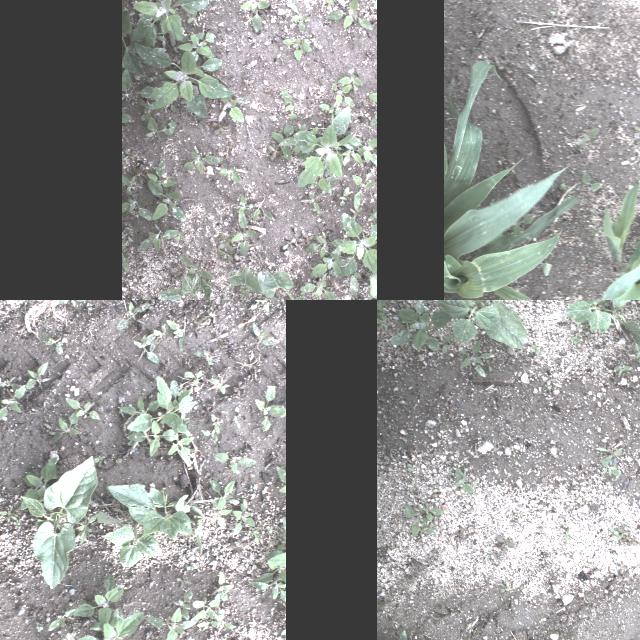crop: (443, 59, 580, 300), (20, 456, 99, 588), (588, 106, 640, 300), (108, 484, 194, 542), (431, 300, 527, 349), (96, 512, 162, 568), (565, 300, 634, 333), (215, 265, 269, 300), (174, 494, 203, 556), (259, 271, 317, 300), (159, 274, 214, 300), (377, 300, 406, 329)
weed: (136, 40, 232, 119), (282, 108, 362, 194), (126, 376, 198, 432), (132, 0, 212, 45), (390, 302, 452, 351), (73, 574, 124, 632), (65, 607, 146, 640), (341, 213, 377, 276), (19, 456, 57, 510), (125, 420, 178, 458), (146, 607, 196, 640), (146, 180, 184, 222), (121, 4, 142, 76), (324, 0, 373, 29), (254, 386, 286, 430), (402, 504, 443, 538), (458, 340, 494, 378), (232, 210, 258, 256), (176, 31, 214, 60), (0, 384, 28, 422), (239, 0, 271, 33), (180, 150, 223, 174), (210, 453, 256, 475), (49, 412, 80, 444), (210, 478, 240, 510), (114, 302, 148, 330), (118, 395, 164, 415), (351, 172, 375, 210), (337, 256, 361, 294), (233, 496, 255, 536), (167, 432, 196, 462), (138, 229, 174, 253), (250, 578, 286, 602), (74, 512, 100, 544), (179, 256, 213, 280), (147, 162, 176, 190), (313, 248, 342, 276), (272, 126, 294, 162), (190, 594, 220, 620), (134, 332, 158, 364), (251, 190, 273, 224), (252, 561, 286, 583), (280, 87, 300, 123), (282, 38, 312, 62), (305, 236, 341, 256), (150, 316, 170, 352), (64, 398, 100, 418), (338, 68, 364, 94), (42, 330, 68, 356), (122, 198, 150, 222), (48, 608, 76, 632), (170, 380, 192, 410), (171, 590, 193, 620), (166, 321, 187, 352), (300, 281, 333, 300), (221, 96, 247, 120), (355, 137, 377, 165), (252, 323, 280, 345), (26, 362, 48, 390), (290, 2, 310, 32), (212, 498, 232, 528), (332, 82, 356, 106), (146, 120, 174, 140), (367, 71, 377, 126), (188, 349, 220, 366), (216, 572, 234, 602), (122, 224, 132, 274), (578, 127, 600, 149), (215, 168, 242, 185), (256, 528, 284, 544), (595, 447, 623, 463), (214, 614, 236, 634), (455, 469, 473, 493), (342, 149, 362, 169), (581, 172, 601, 192), (494, 534, 514, 554), (264, 550, 286, 568), (198, 56, 222, 72), (304, 191, 320, 215), (197, 302, 215, 322), (435, 334, 453, 354), (226, 542, 248, 558), (601, 460, 621, 476), (0, 505, 18, 522), (208, 378, 226, 394), (184, 370, 202, 386), (196, 620, 220, 632), (122, 174, 136, 194), (278, 517, 286, 551), (138, 100, 150, 122), (122, 76, 134, 98), (208, 413, 220, 435), (616, 361, 632, 377), (235, 199, 253, 213), (218, 233, 232, 250), (0, 378, 21, 389), (122, 149, 136, 165), (240, 315, 256, 329), (176, 574, 192, 588), (340, 188, 352, 206), (131, 167, 143, 185), (254, 300, 272, 312), (200, 429, 218, 441), (209, 123, 229, 133), (121, 106, 132, 124), (266, 144, 280, 158), (234, 381, 248, 395), (57, 300, 84, 307), (367, 203, 377, 221), (282, 239, 296, 251), (320, 103, 334, 115), (608, 526, 620, 540), (217, 250, 233, 260), (276, 466, 286, 482), (57, 632, 77, 640), (402, 304, 413, 318), (182, 412, 190, 431), (146, 75, 164, 83), (548, 8, 558, 22), (91, 455, 105, 465), (634, 342, 640, 365), (214, 300, 226, 311), (252, 528, 260, 544), (175, 230, 185, 242), (311, 0, 334, 5), (618, 528, 628, 538), (500, 584, 510, 594), (633, 121, 640, 135), (188, 12, 196, 24), (398, 630, 407, 640), (486, 358, 492, 372), (35, 622, 43, 632), (582, 496, 590, 506), (234, 416, 240, 428), (564, 528, 570, 540), (277, 485, 285, 493), (572, 336, 580, 344), (482, 553, 490, 561), (284, 8, 290, 18), (188, 564, 198, 570), (620, 536, 630, 542), (532, 346, 538, 354), (170, 106, 176, 112), (280, 629, 286, 635), (449, 466, 455, 472), (546, 382, 550, 390), (406, 464, 410, 472), (316, 44, 322, 48), (630, 540, 636, 544), (637, 468, 640, 475), (638, 576, 640, 583)
